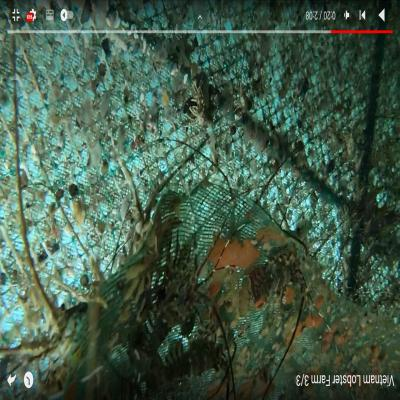lobster: (146, 266, 200, 344), (246, 246, 304, 299)
